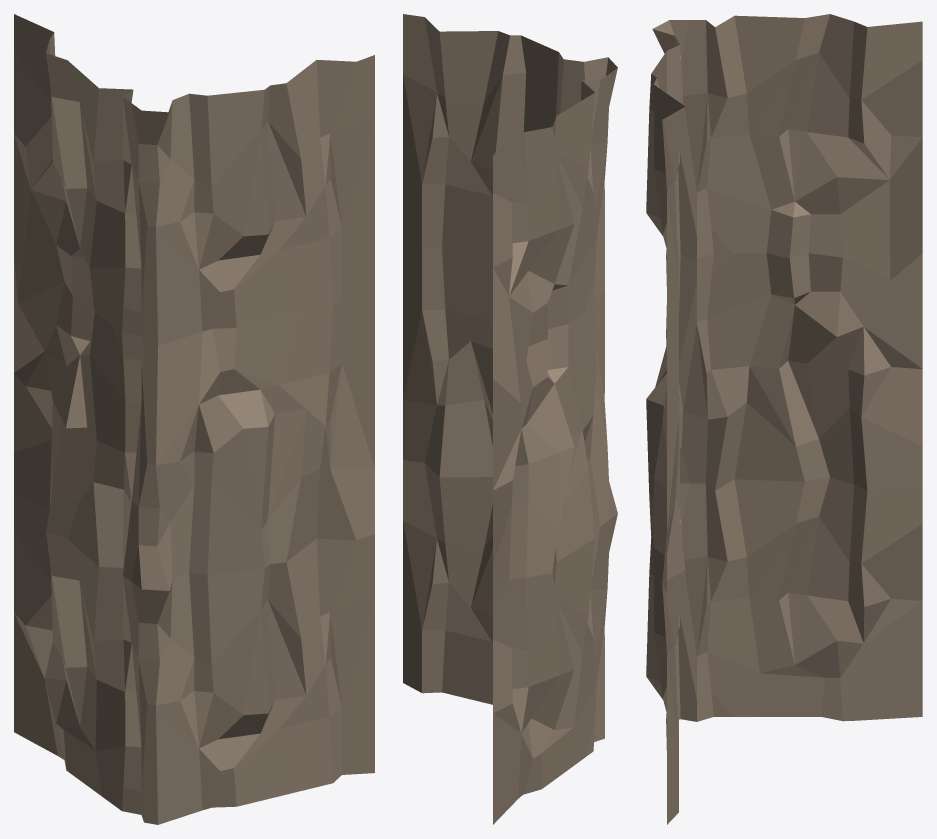
File: ER_Terrain_3x1_Dirt_Corner_001_B.fbx
3 renders of one model, left to right at view 1: azimuth 30°, elevation 25°; view 2: azimuth 150°, elevation 25°; view 3: azimuth 270°, elevation 25°, orthographic. The views are drawn at different scales.
Parts seen in each view (by area): view 1: ER_Terrain_3x1_Dirt_Corner_001_B; view 2: ER_Terrain_3x1_Dirt_Corner_001_B; view 3: ER_Terrain_3x1_Dirt_Corner_001_B.
Boxes of the visible parts, x1,y1,x2,y2 form: ER_Terrain_3x1_Dirt_Corner_001_B: [14, 14, 374, 824]; ER_Terrain_3x1_Dirt_Corner_001_B: [403, 14, 617, 824]; ER_Terrain_3x1_Dirt_Corner_001_B: [646, 14, 922, 824].
Size of the model in its own units: 1.08 by 3 by 1.08.
